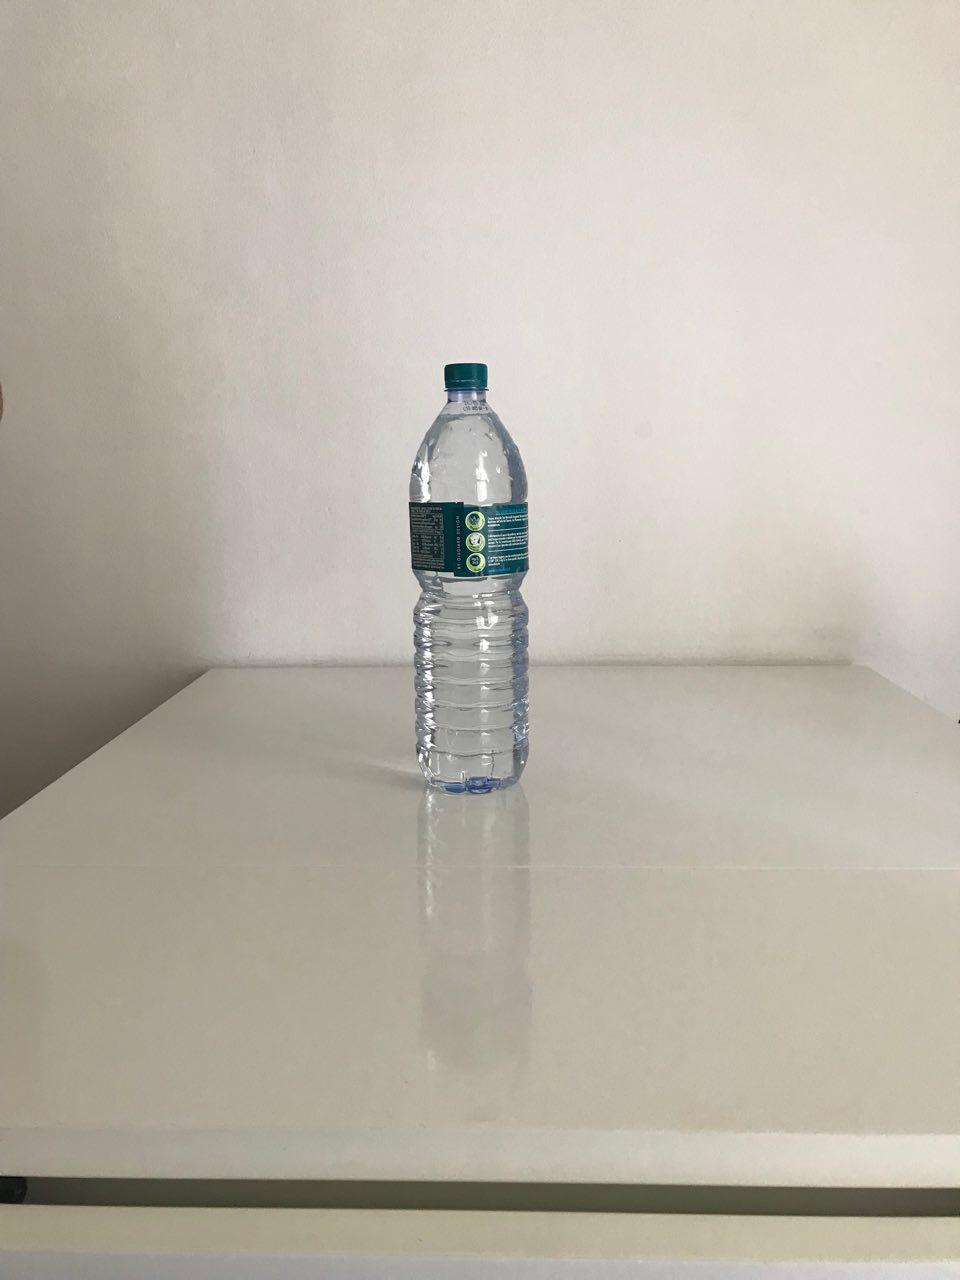san_bernardo: (407, 361, 532, 795)
